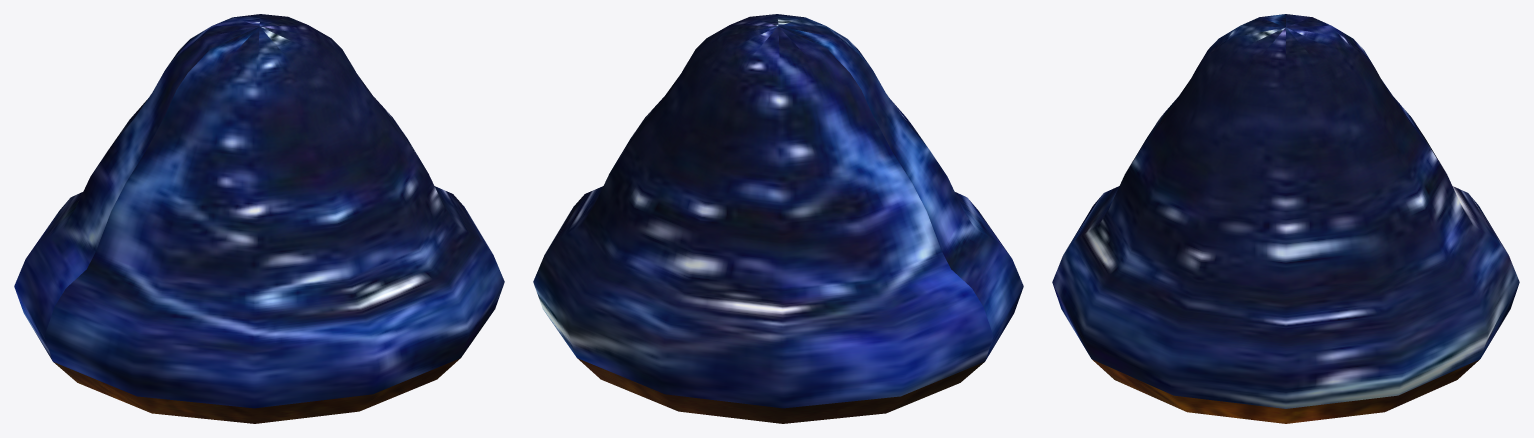
The model's file is FireMedusa01Top 1.fbx.
The picture shows the model from 3 angles, left to right: view 1: azimuth 30°, elevation 25°; view 2: azimuth 150°, elevation 25°; view 3: azimuth 270°, elevation 25°; orthographic projection.
Visible parts, largest first — view 1: Crown; view 2: Crown; view 3: Crown.
Part boxes in pixels (bbox=[...]): Crown: bbox=[14, 14, 504, 423]; Crown: bbox=[533, 14, 1023, 423]; Crown: bbox=[1052, 14, 1519, 423].
Size of the model in its own units: 0.2849 by 0.1974 by 0.2709.
